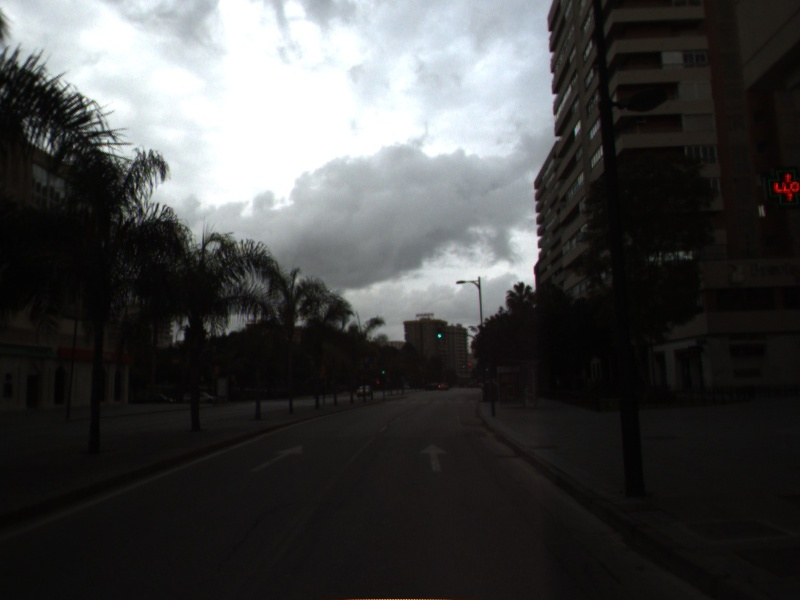STRAIGHT: (247, 442, 305, 474), (417, 441, 451, 475)
